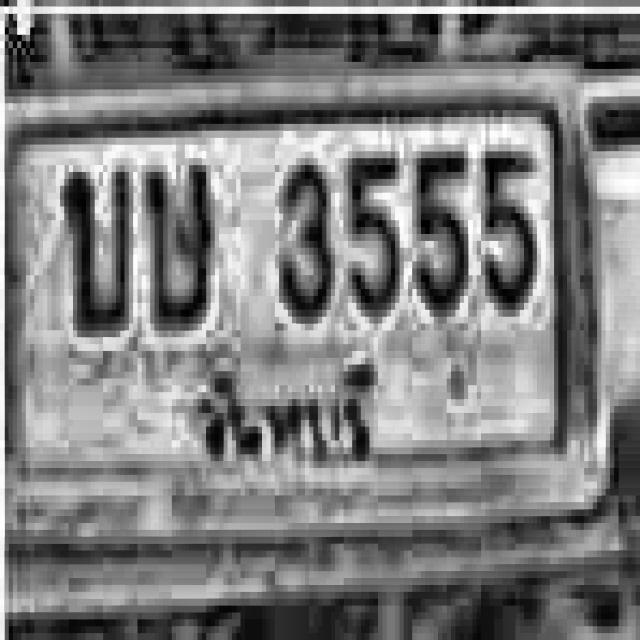license-plate: (0, 55, 614, 557)
